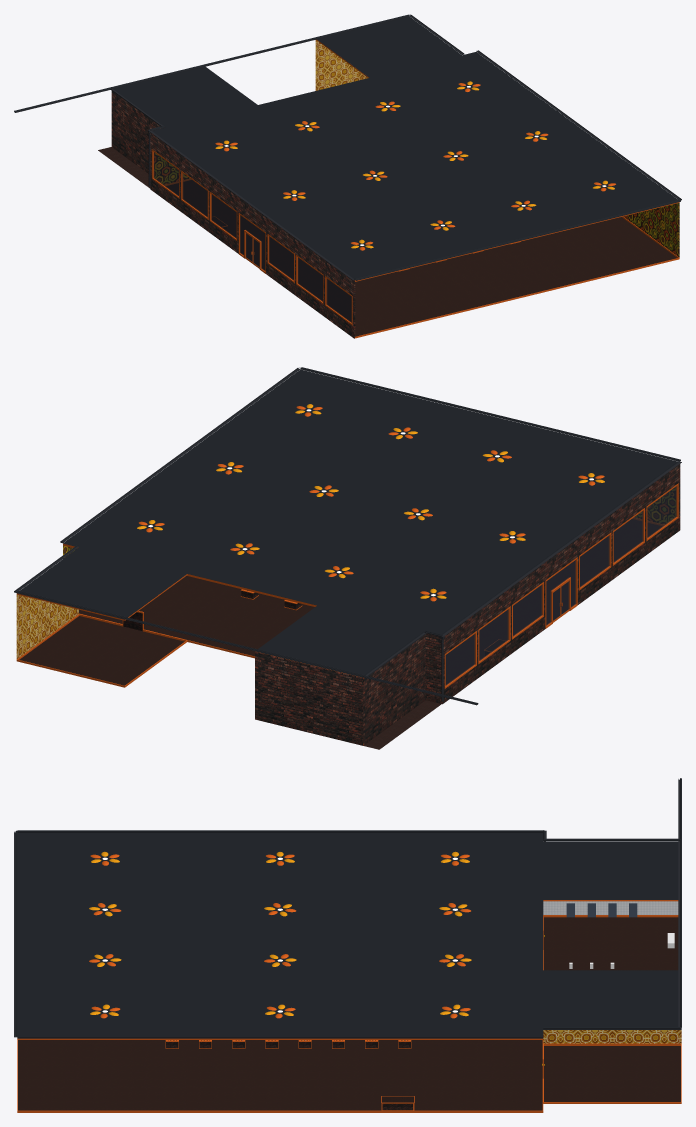
File: existing_shop.glb
3 renders of one model, top to bottom at view 1: azimuth 30°, elevation 25°; view 2: azimuth 150°, elevation 25°; view 3: azimuth 270°, elevation 25°, orthographic. The views are drawn at different scales.
Parts seen in each view (by area): view 1: mainRoofDeck, floor, WALL__existing_shop_window_wall, brRoofDeck, wcRoofDeck, wcLeftBrickWall, rightWall, brRearWall, frontSkirt, capMesh.005, gutterOuter.005, glassPane.002 (+11 smaller); view 2: mainRoofDeck, floor, WALL__existing_shop_window_wall, wcRearBrickWall, brRoofDeck, wcRoofDeck, brFloor, wcLeftBrickWall, brRightWall, storeCornerGapWall, wcOutdoorGapFloor, glassPane (+12 smaller); view 3: mainRoofDeck, floor, wcRoofDeck, brRoofDeck, brFloor, wcFloor, brLeftWall, capMesh.008, capMesh, rightSkirt, wcLeftTileWall, gutterOuter.008 (+4 smaller).
Part boxes in pixels (x1,y1,x2,y2): mainRoofDeck: (152, 52, 677, 278); floor: (166, 180, 676, 336); WALL__existing_shop_window_wall: (150, 133, 355, 338); brRoofDeck: (317, 17, 461, 77); wcRoofDeck: (113, 66, 257, 127); wcLeftBrickWall: (111, 91, 164, 173); rightWall: (623, 203, 679, 257); brRearWall: (315, 40, 367, 90); frontSkirt: (355, 257, 679, 338); capMesh.005: (14, 14, 409, 111); gutterOuter.005: (15, 15, 409, 112); glassPane.002: (211, 194, 236, 238); mainRoofDeck: (63, 369, 678, 634); floor: (79, 519, 661, 684); WALL__existing_shop_window_wall: (443, 464, 680, 703); wcRearBrickWall: (255, 651, 362, 745); brRoofDeck: (19, 547, 186, 619); wcRoofDeck: (255, 605, 424, 677); brFloor: (19, 616, 184, 685); wcLeftBrickWall: (363, 634, 425, 745); brRightWall: (16, 594, 78, 658); storeCornerGapWall: (425, 633, 442, 704); wcOutdoorGapFloor: (363, 700, 441, 749); glassPane: (445, 634, 475, 685); mainRoofDeck: (17, 832, 543, 1035); floor: (18, 1040, 542, 1110); wcRoofDeck: (543, 841, 678, 899); brRoofDeck: (543, 970, 678, 1026); brFloor: (542, 1045, 680, 1103); wcFloor: (544, 917, 678, 970); brLeftWall: (543, 1030, 681, 1043); capMesh.008: (17, 1035, 543, 1037); capMesh: (17, 830, 543, 832); rightSkirt: (18, 1110, 543, 1112); wcLeftTileWall: (543, 901, 678, 914); gutterOuter.008: (17, 1037, 543, 1038).
Size of what is drawn, in the model's own units: 88.48 by 12.85 by 96.53.
Materials: 449 (437 with a texture image).
